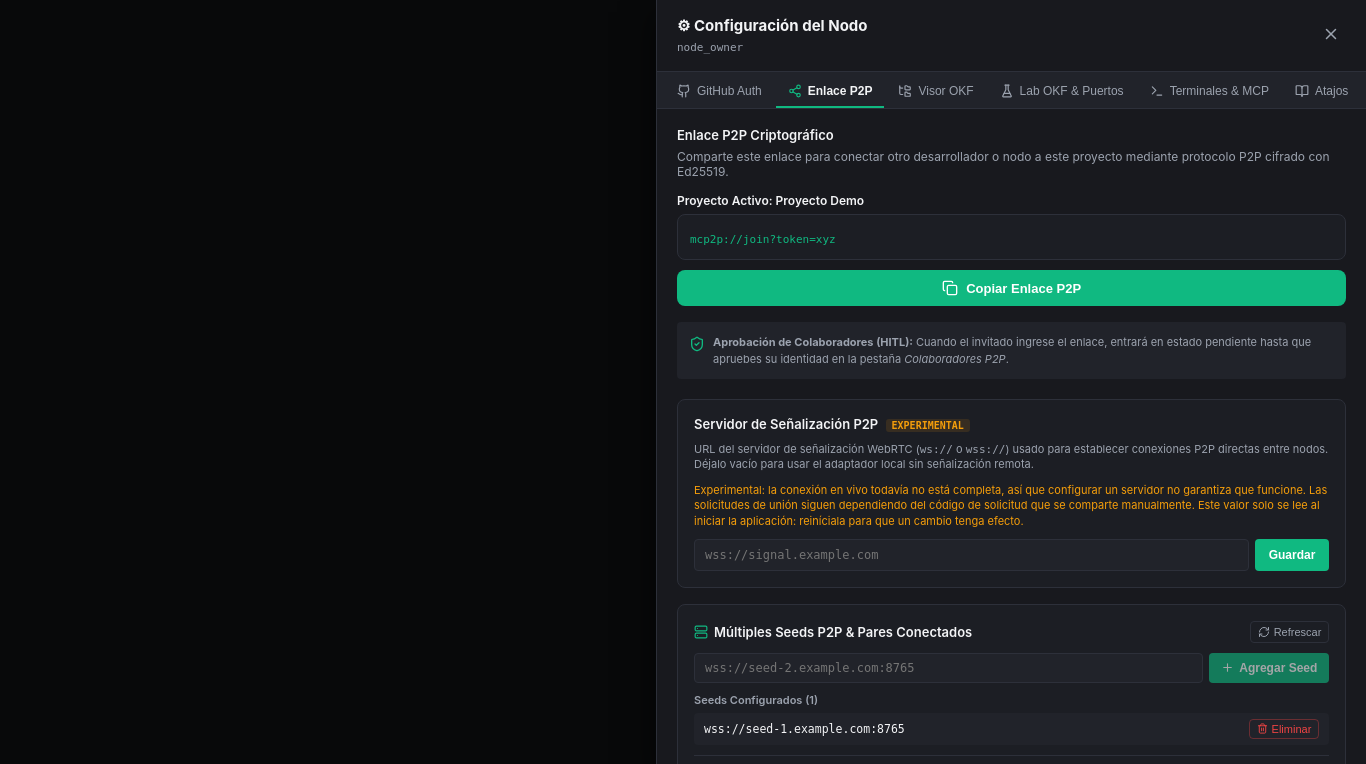
Test: SettingsDrawer - Multi-Seed P2P y Laboratorio OKF & Puertos (Hito 4.4) › permite listar, agregar y eliminar múltiples Seeds P2P y ver pares conectados
Later steps or results of the test are not shown.
expect the text "wss://seed-1.example.com:8765" is shown: met, box [704,722,904,736]
Step 1. Type "wss://seed-2.example.com:9000" into the field with test id "p2p-seed-input" → (948, 668), box [694,653,1203,683]
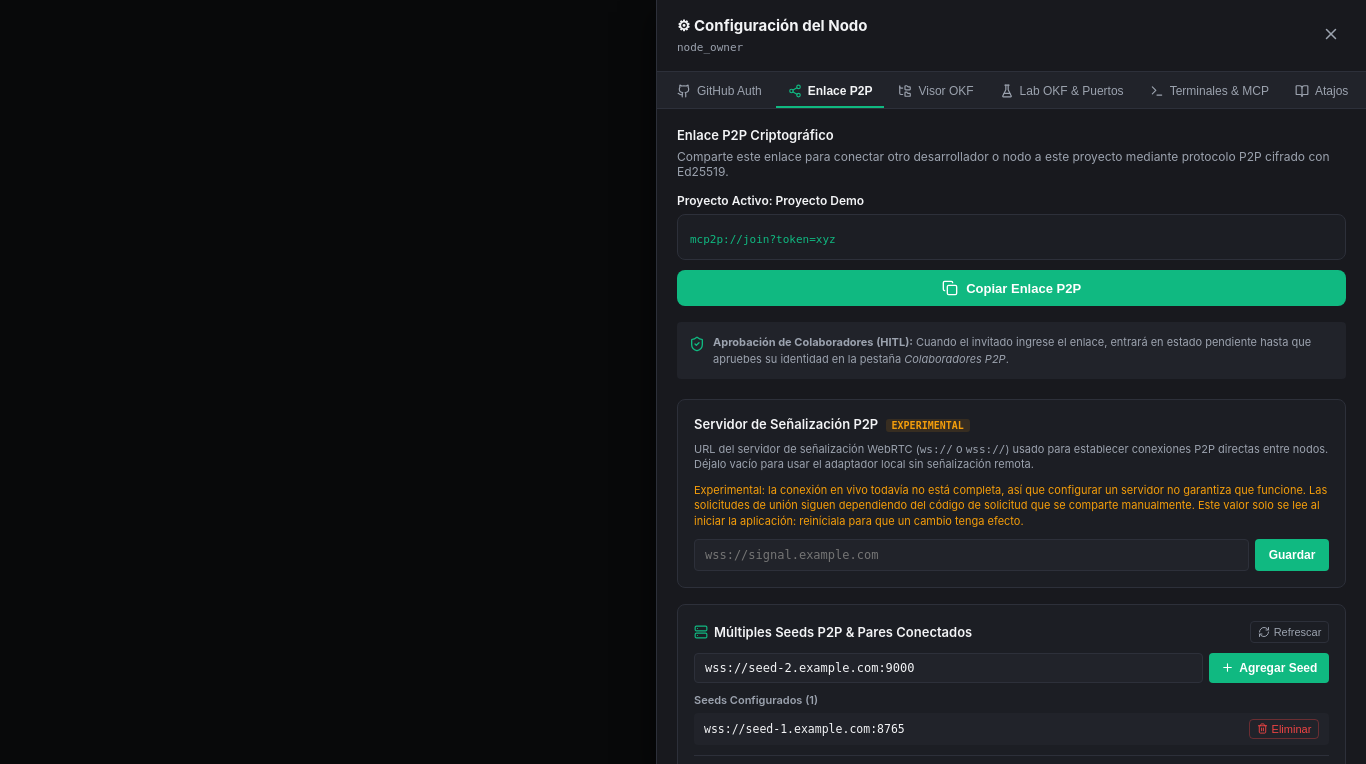
Step 2. Click the button with test id "add-p2p-seed-btn" → (1269, 668), box [1209,653,1329,683]
(page scrolled)
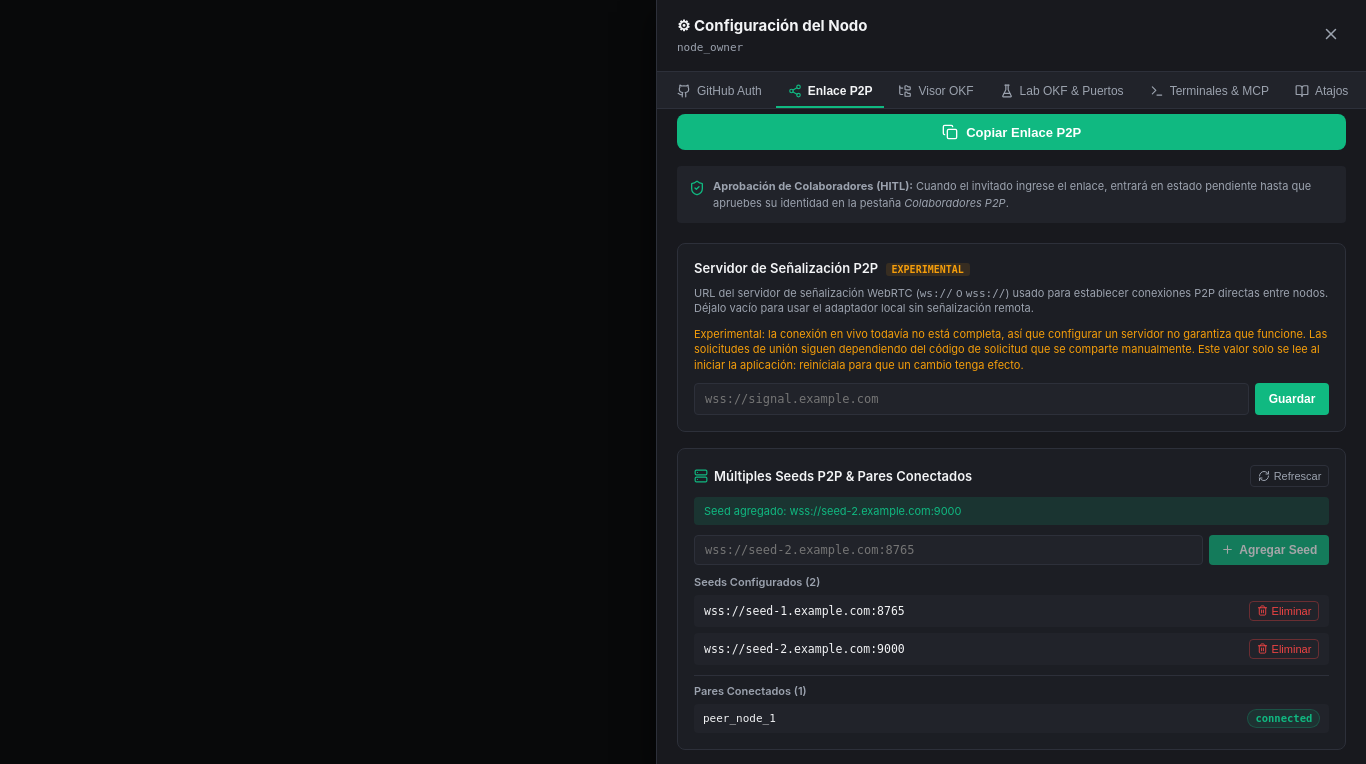
expect the text "wss://seed-2.example.com:9000" is shown: met, box [704,642,904,656]
